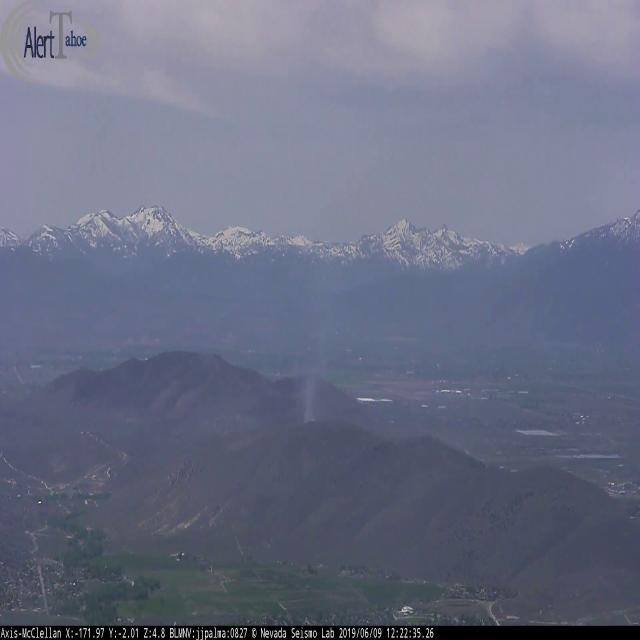smoke: (298, 294, 336, 422)
